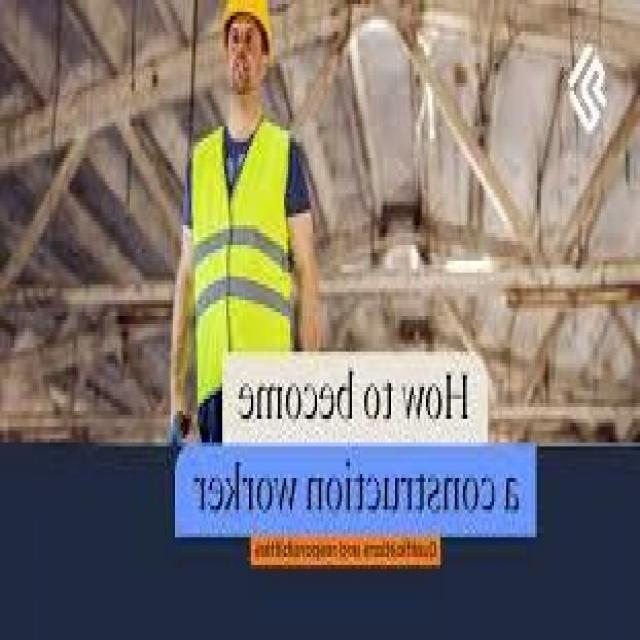Reflective-Jacket: (183, 118, 301, 415)
Safety-Helmet: (218, 0, 275, 47)
